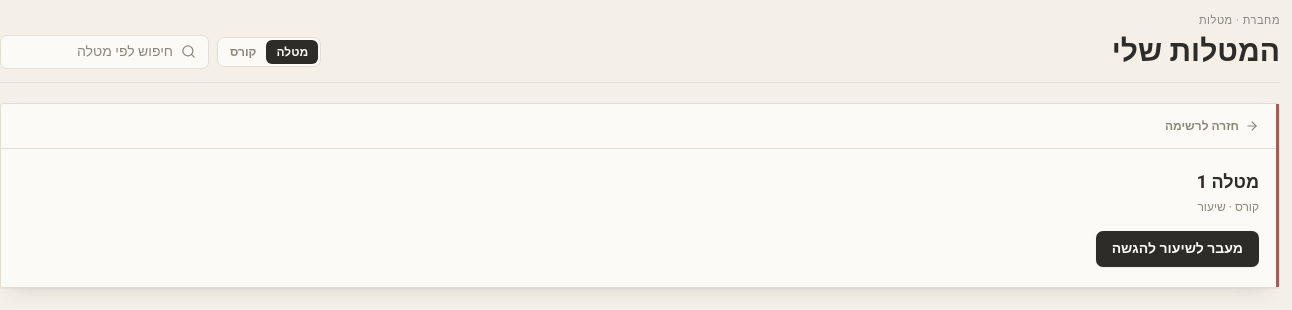
Test: AssignmentsPage › reopens the assignment named in the URL, and goes back to the list
Click the button "חזרה לרשימה" at (1212, 126), box [1165,118,1259,134]
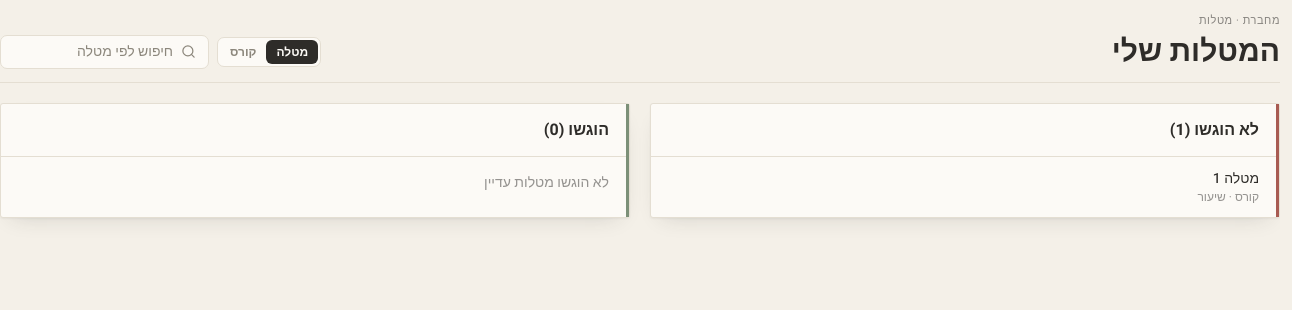
Now the heading "לא הוגשו (1)" is shown, box [1170,118,1259,142]
